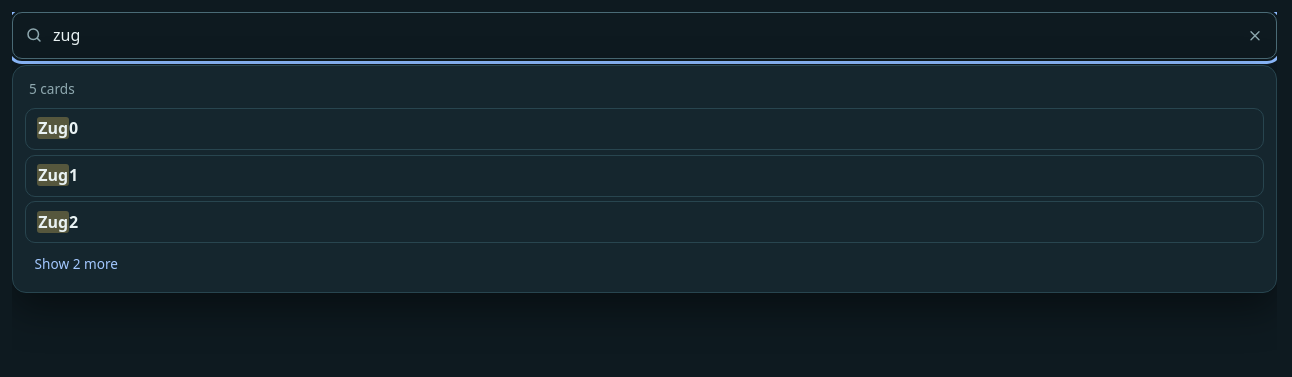
Test: the panel shows three cards and Show more shows the rest
Check: the number of buttons with class "search-row" is 3, box [25, 108, 1264, 150]; [25, 155, 1264, 197]; [25, 202, 1264, 244]
Click the button with class "search-more". click: (76, 264)
box: [25, 248, 128, 280]
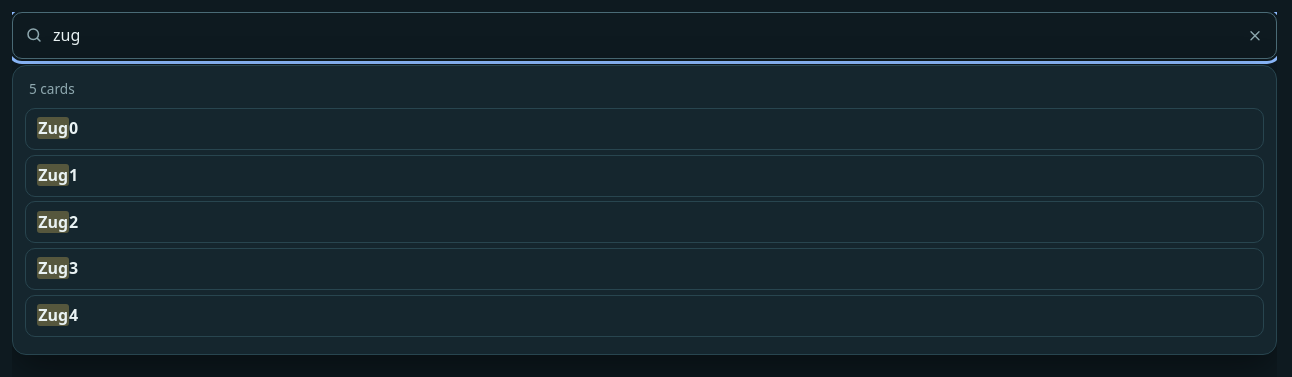
Check: the number of buttons with class "search-row" is 5, box [25, 108, 1264, 150]; [25, 155, 1264, 197]; [25, 202, 1264, 244]; [25, 248, 1264, 290]; [25, 295, 1264, 337]
